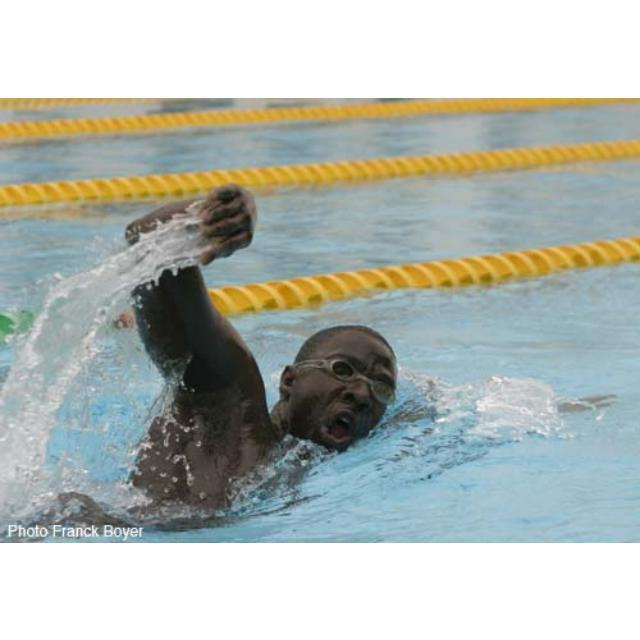human: (80, 181, 396, 534)
